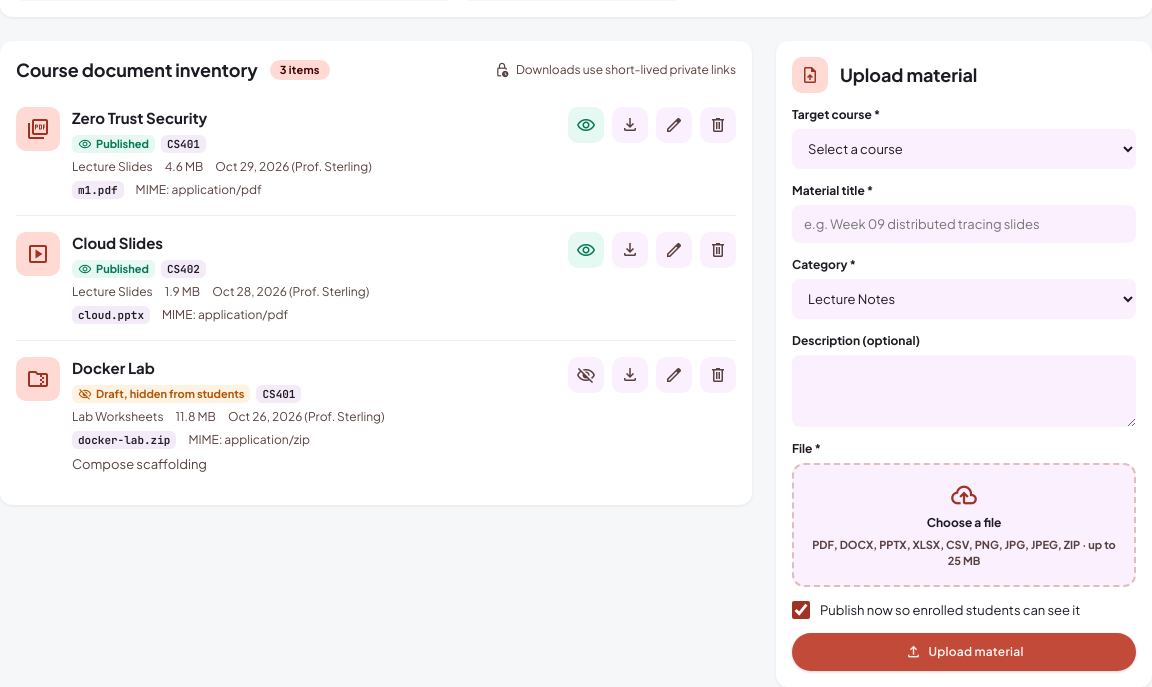
Test: row actions › shows an error when publishing fails
(page scrolled)
Expected: the heading "Docker Lab" is shown, [72, 358, 155, 377]
What coordinates should you click on to do the following:
click the button named "Publish Docker Lab"
I would click on:
 (586, 375)
Its box is [568, 357, 604, 393].
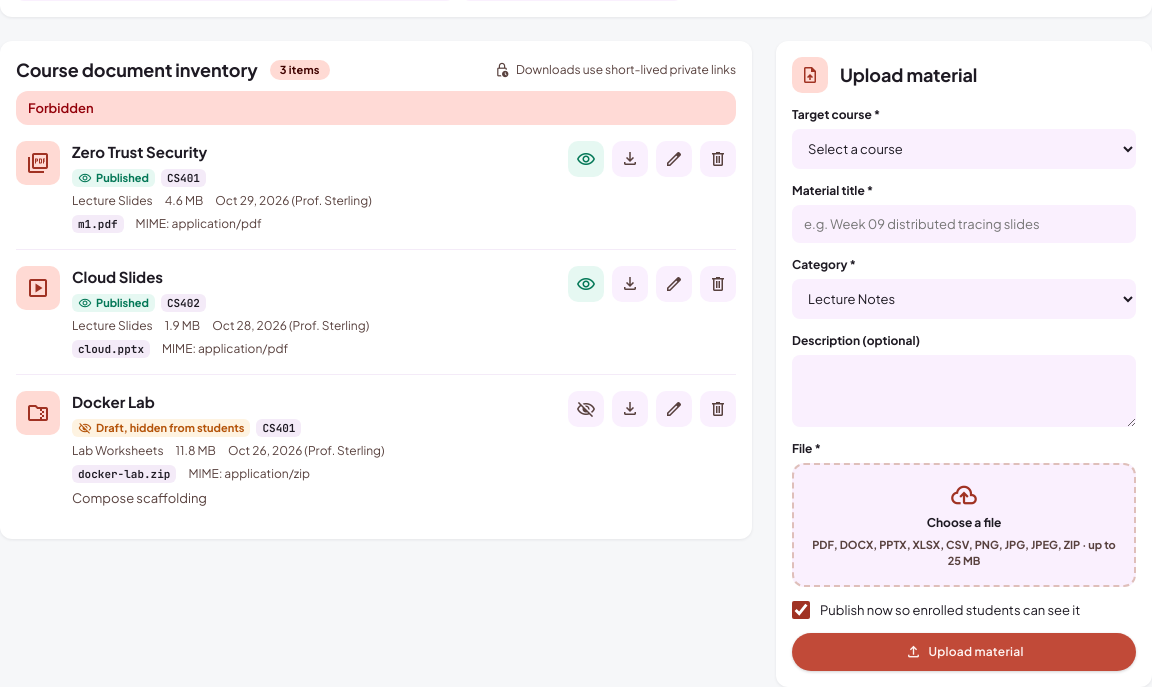
Now the text "Forbidden" is shown, box [16, 91, 736, 125]
